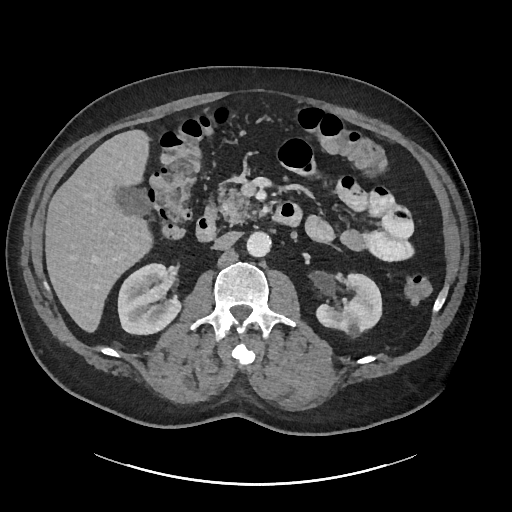Lesion: (347, 319, 362, 339)
